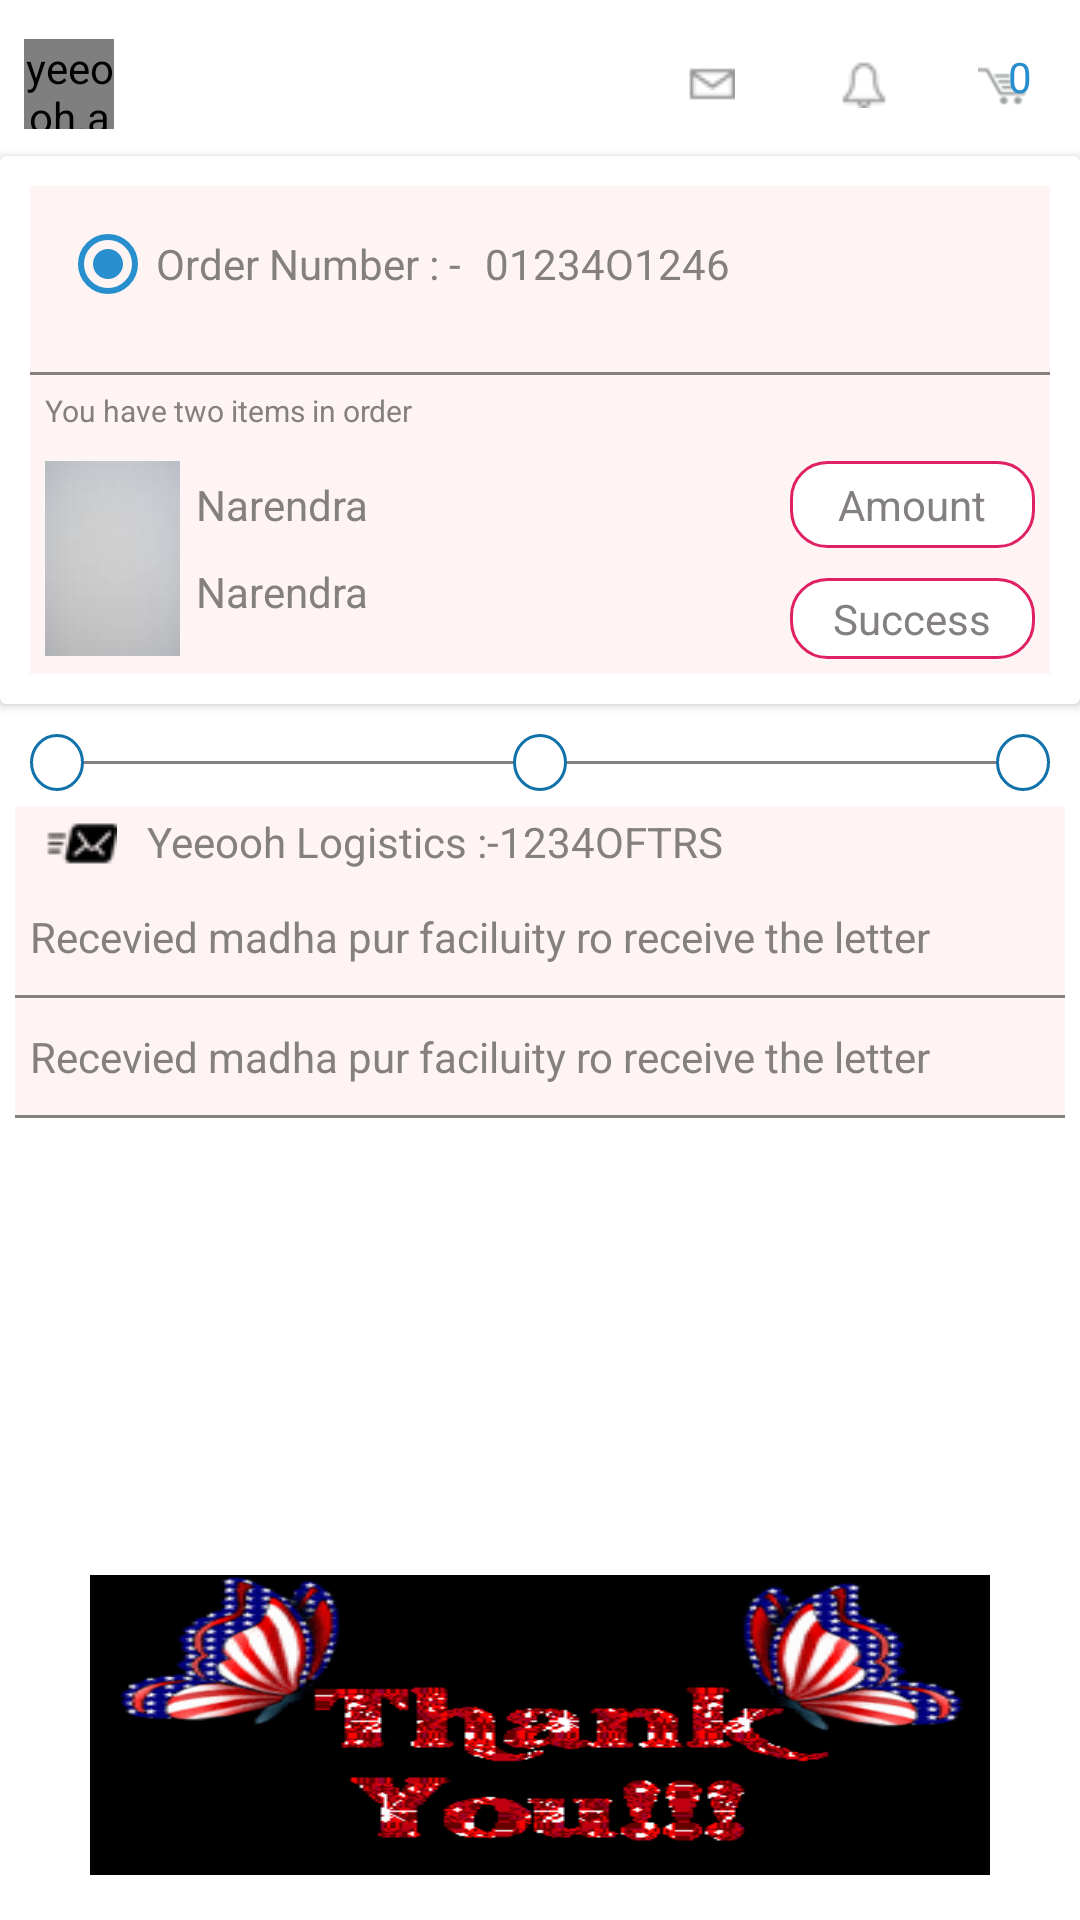

Icons on this 1080*1920 Android screen, each with its box as (x1,y1,x2,y2):
cart: (978,62,1026,104)
inbox: (689,68,735,100)
notifications: (842,62,886,108)
